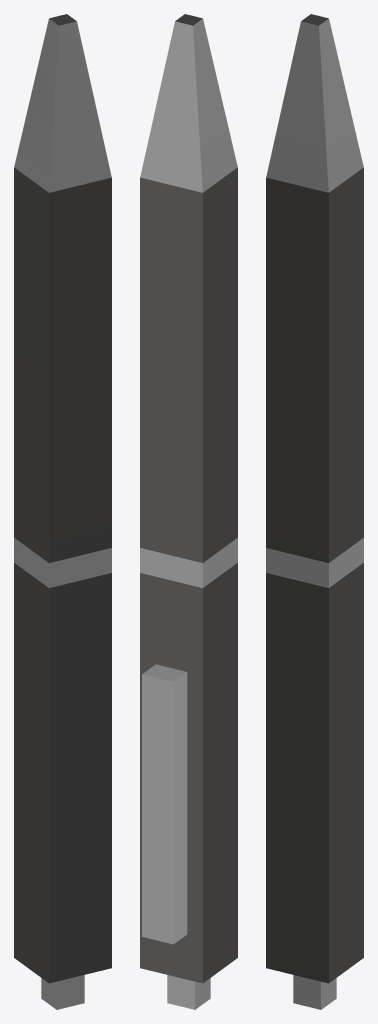
The model's file is Pen.glb.
3 views of the same model, side by side, from view 1: azimuth 30°, elevation 25°; view 2: azimuth 150°, elevation 25°; view 3: azimuth 330°, elevation 25° (orthographic).
Visible parts, largest first — view 1: SO_Pen_01; view 2: SO_Pen_01; view 3: SO_Pen_01.
Part boxes in pixels (bbox=[...]): SO_Pen_01: bbox=[14, 14, 111, 1009]; SO_Pen_01: bbox=[140, 14, 237, 1009]; SO_Pen_01: bbox=[266, 14, 363, 1009].
Size of the model in its own units: 0.0321 by 0.4792 by 0.0431.
Materials: 1 (1 with a texture image).
